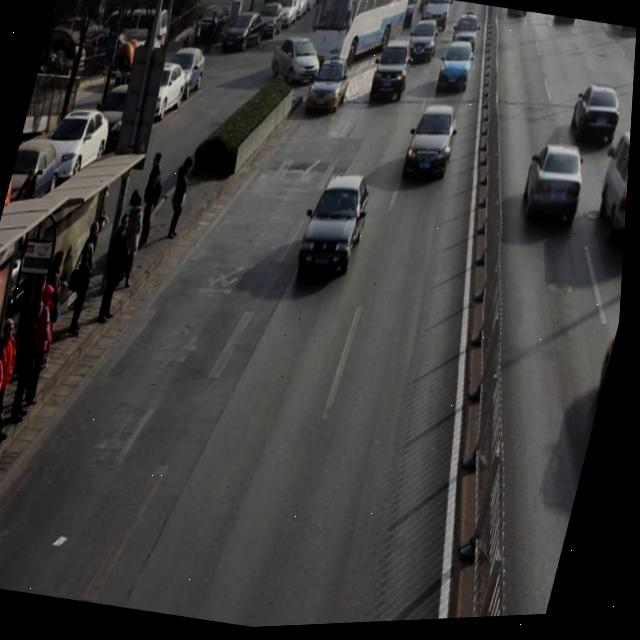car: (298, 169, 380, 284), (520, 143, 595, 236), (403, 103, 465, 191), (568, 85, 628, 157), (267, 35, 329, 95), (369, 39, 419, 111), (306, 56, 356, 124), (436, 41, 479, 103), (405, 20, 443, 72), (449, 14, 485, 62)
truck: (592, 134, 633, 256), (418, 0, 453, 39)
van: (301, 0, 411, 85)
